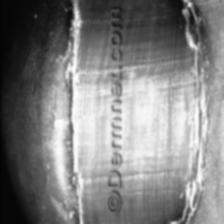Toxin: (74, 0, 204, 224)
